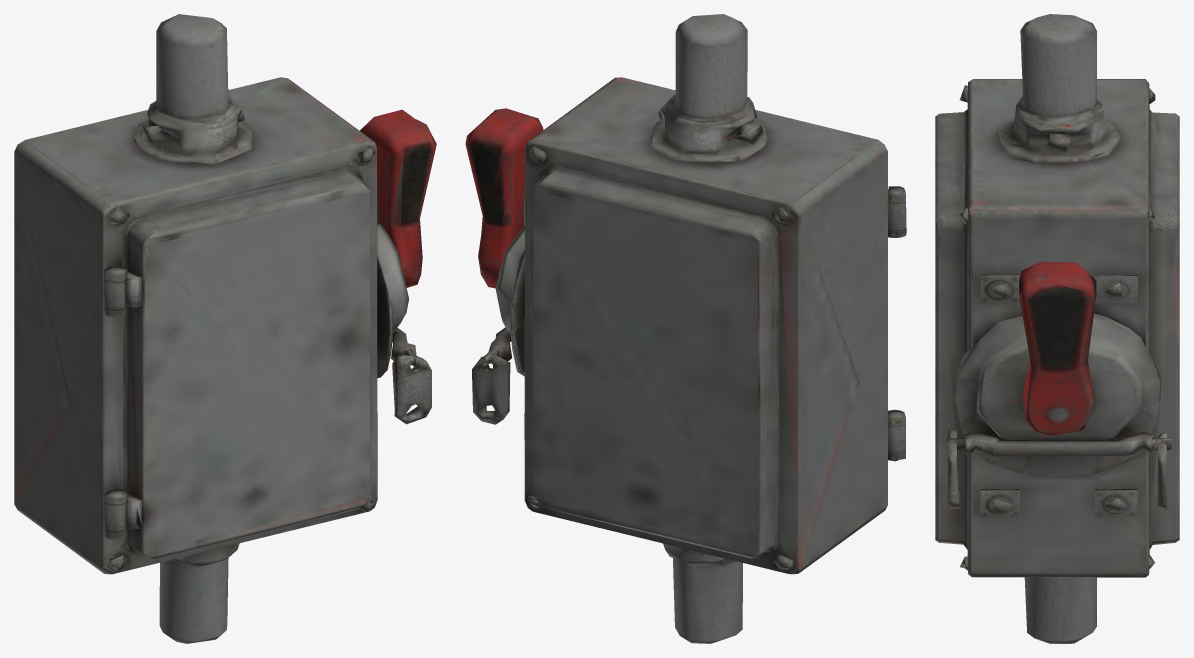
Rendered from p7-disconnect-switch-t25.glb.
3 renders of one model, left to right at view 1: azimuth 30°, elevation 25°; view 2: azimuth 150°, elevation 25°; view 3: azimuth 270°, elevation 25°, orthographic.
Parts seen in each view (by area): view 1: p7-disconnect-switch-t25; view 2: p7-disconnect-switch-t25; view 3: p7-disconnect-switch-t25.
Boxes of the visible parts, <box> form: p7-disconnect-switch-t25: <box>14,14,436,643</box>; p7-disconnect-switch-t25: <box>465,14,906,643</box>; p7-disconnect-switch-t25: <box>935,14,1179,643</box>.
Bounding box in the file's own units: 0.35 × 0.55 × 0.2.
Materials: 1 (1 with a texture image).
